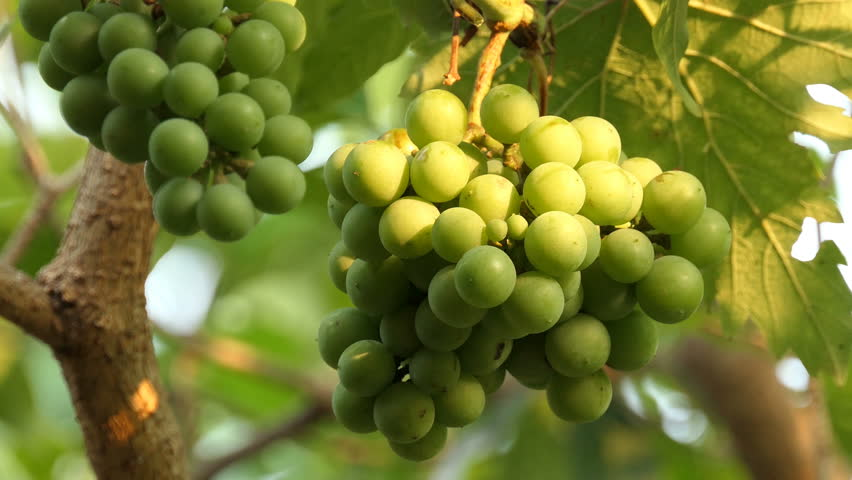grapes: (339, 95, 737, 448), (29, 10, 326, 230)
